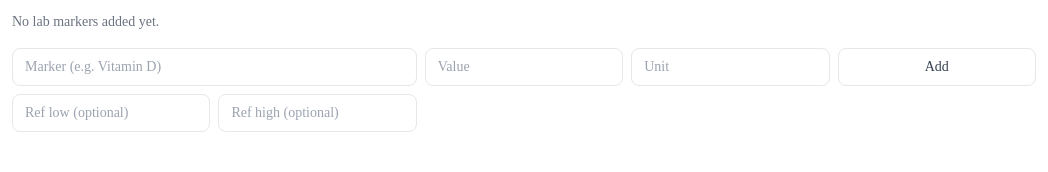
LabMarkerTable — an auto-filled range follows its unit (U21) › moves an auto-filled unit to the new marker's unit on a switch
This screenshot has width=1048, height=172.
Type "hs-CRP" into the field with placeholder "Marker (e.g. Vitamin D)" at (214, 67), box [12, 48, 417, 86]
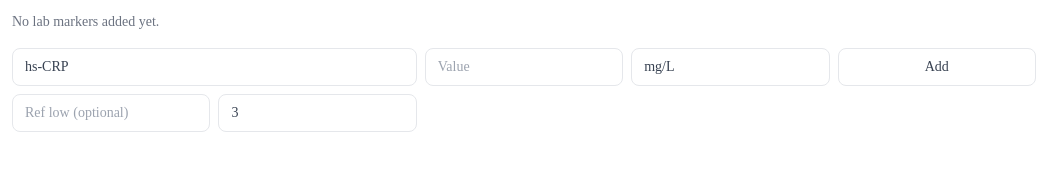
Result: the 2nd field with placeholder "Unit" holds "mg/L" at [631, 48, 830, 86]
Replace the text in the 1st field with placeholder "Marker (e.g. Vitamin D)" with "Magnesium" at (214, 67), box [12, 48, 417, 86]
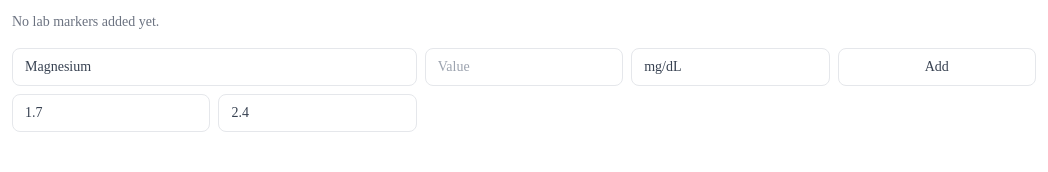
Result: the 2nd field with placeholder "Unit" holds "mg/dL" at [631, 48, 830, 86]
